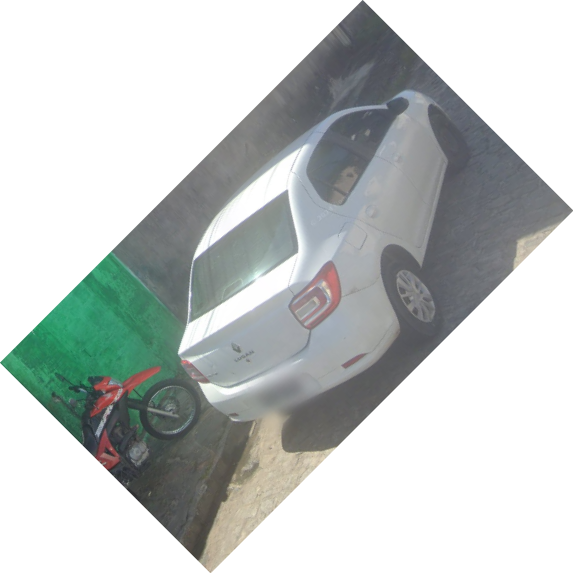car: (173, 86, 474, 428)
